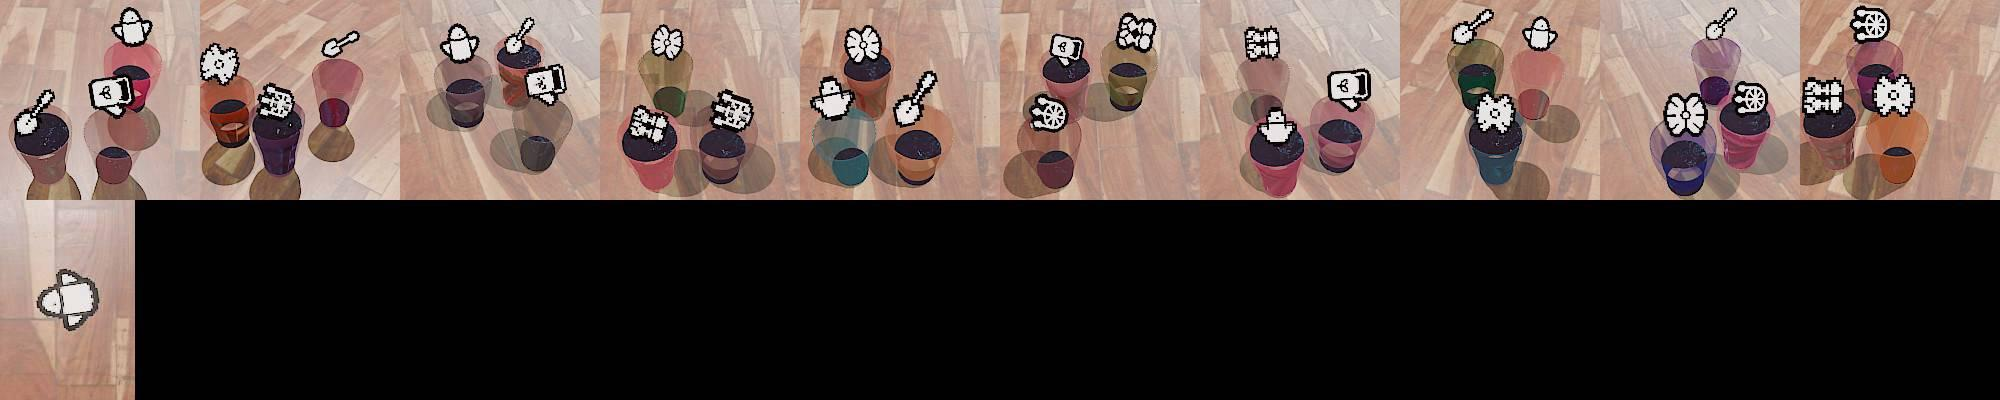icon: (36, 268, 101, 330), (894, 69, 939, 126), (1870, 71, 1917, 118), (810, 75, 856, 122), (708, 87, 755, 132), (1663, 90, 1708, 139), (625, 103, 673, 145), (1473, 90, 1517, 136), (15, 88, 57, 135), (522, 62, 568, 104), (88, 74, 135, 115), (1327, 69, 1371, 111), (198, 42, 240, 85), (1801, 75, 1846, 116), (1116, 11, 1157, 54), (440, 22, 481, 64), (1452, 6, 1495, 46), (1027, 92, 1069, 131), (844, 24, 884, 65), (111, 8, 153, 46), (1849, 5, 1889, 43), (1244, 23, 1282, 61), (256, 83, 295, 120), (1259, 107, 1296, 145), (1523, 15, 1560, 52), (1732, 80, 1768, 117), (1048, 32, 1085, 66), (503, 17, 536, 55), (651, 23, 684, 60), (323, 31, 361, 59), (1707, 6, 1737, 41)
